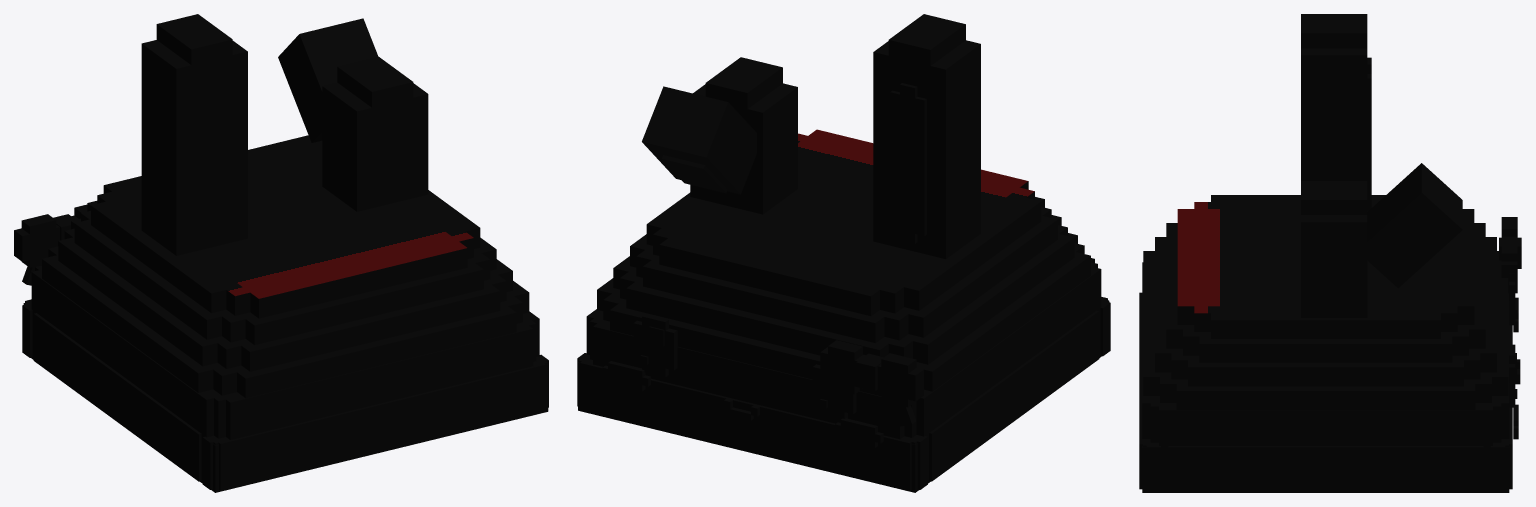
File: hat_bunny_beanie.obj
3 views of the same model, side by side, from view 1: azimuth 30°, elevation 25°; view 2: azimuth 150°, elevation 25°; view 3: azimuth 270°, elevation 25° (orthographic). The views are drawn at different scales.
Size of the model in its own units: 0.5656 by 0.5844 by 0.5763.
